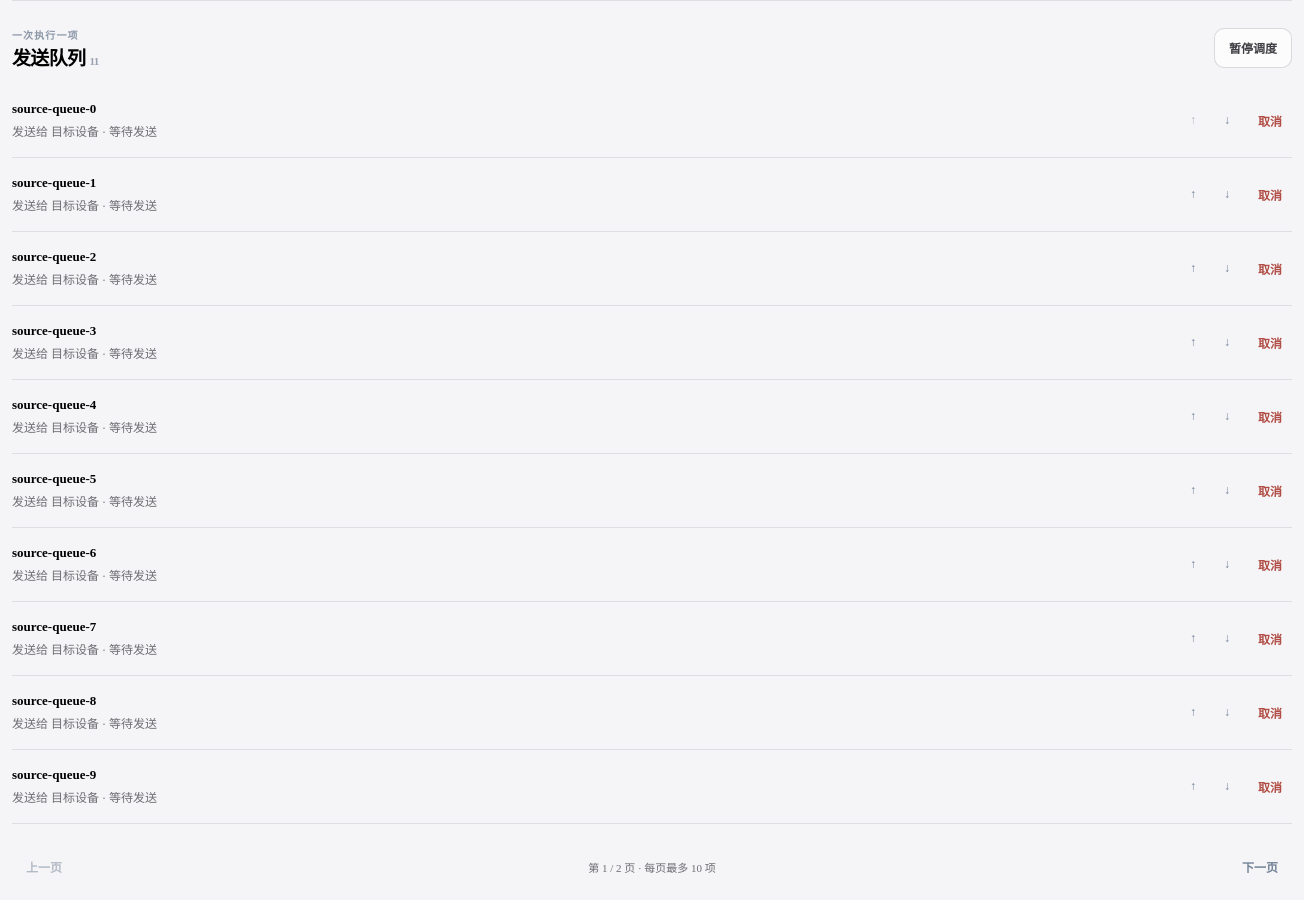
Test: 有界传输视图 › reorders from a later queue page using all pending IDs and clamps after entries disappear
Click the button with aria-label "队列下一页" at (1260, 867), box [1228,848,1292,886]
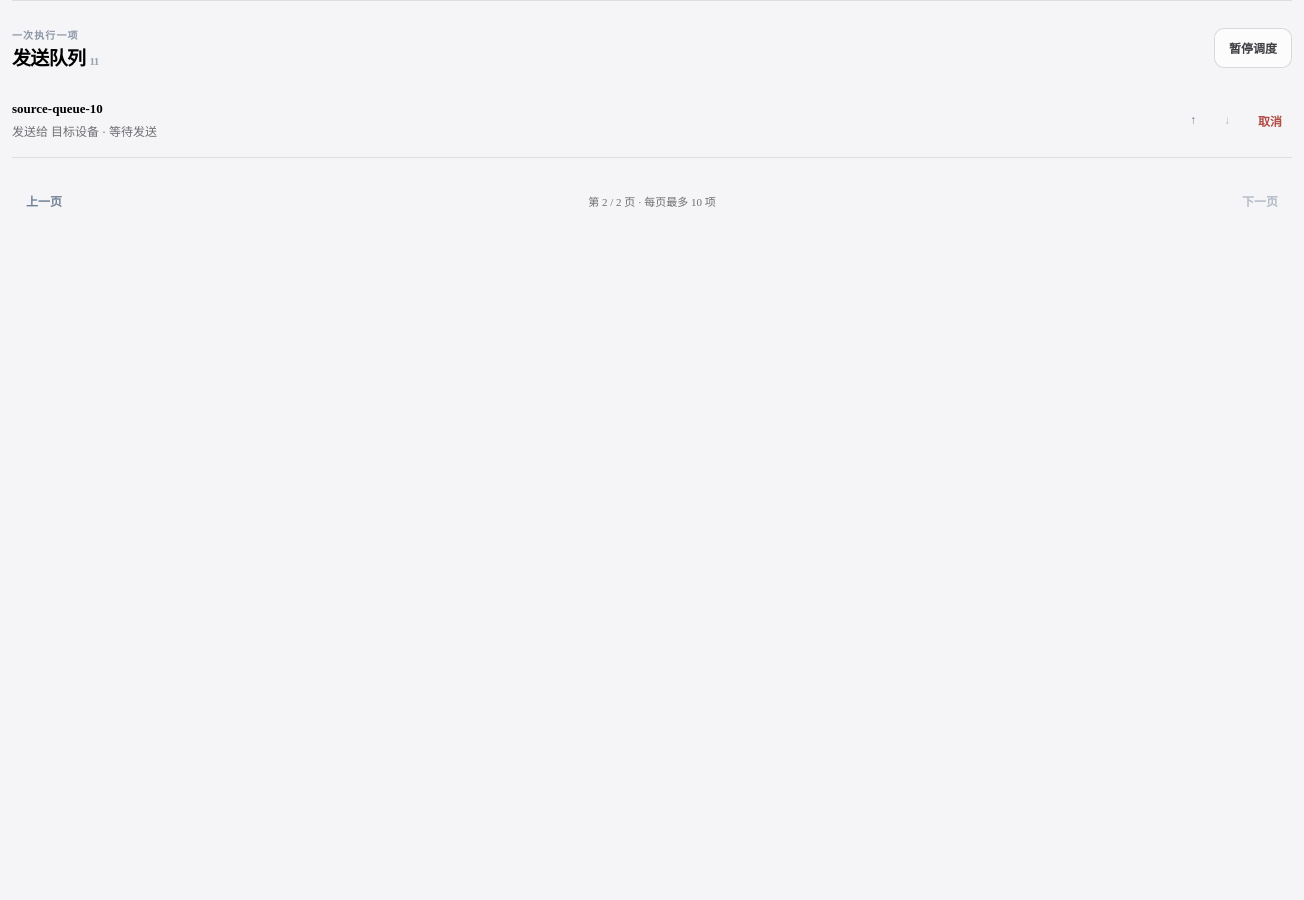
Expected: the number of list items is 1, [12,84,1292,158]
Click the button named "上移 source-queue-10，队列项 queue-10" at (1193, 120), box [1180,102,1206,138]
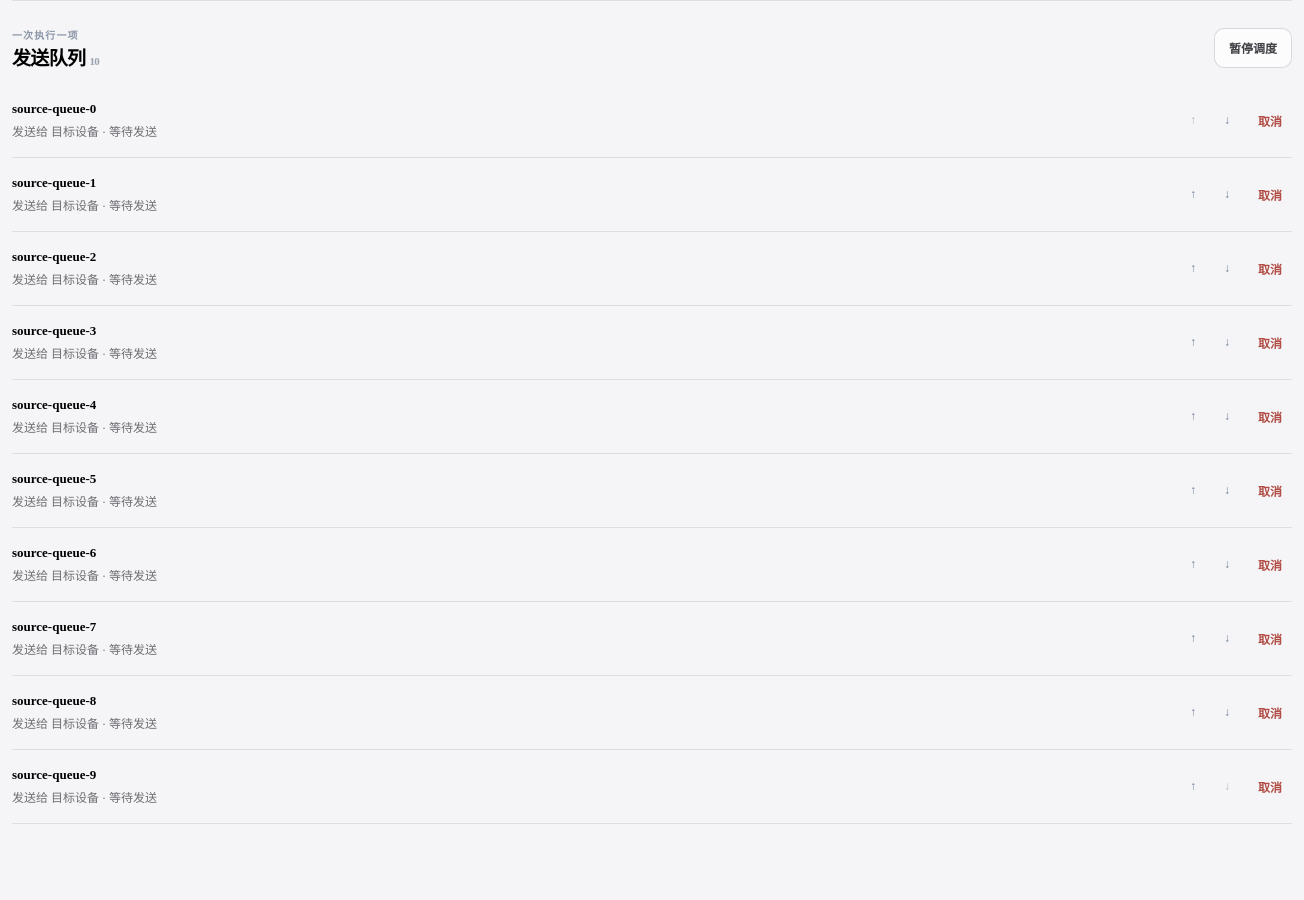
Expected: the number of list items is 10
Expected: the list item "source-queue-0 发送给 目标设备 · 等待发送 ↑ ↓ 取消" is shown, [12,84,1292,158]
Expected: the button named "队列下一页" is gone
